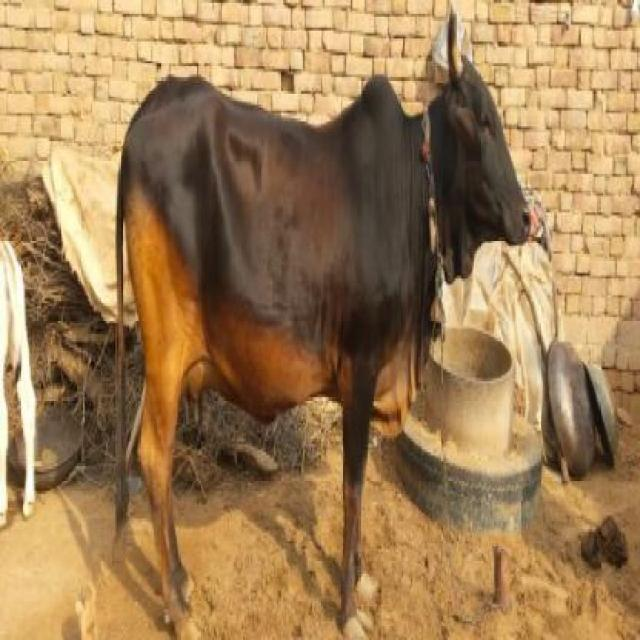Cow: (112, 11, 537, 637)
